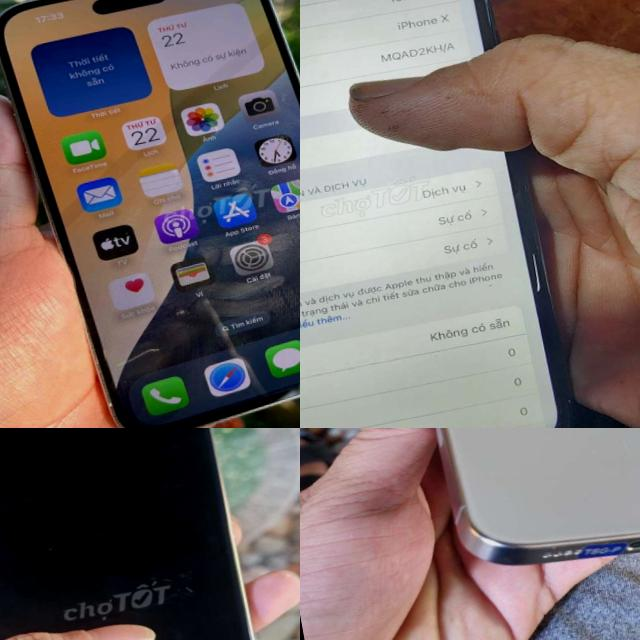gen_14: (0, 0, 300, 428)
gen_15: (0, 428, 300, 640), (390, 428, 640, 620)
gen_x_xs: (300, 0, 629, 428)
